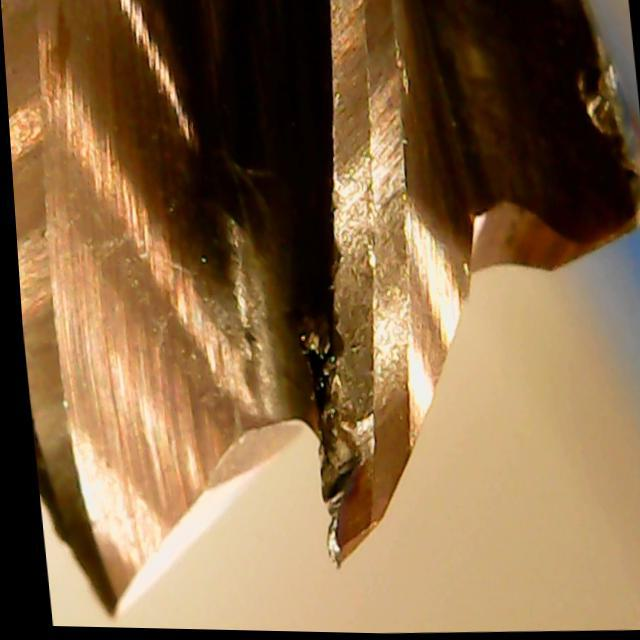Tool-wear-class-2: (273, 322, 447, 577)
